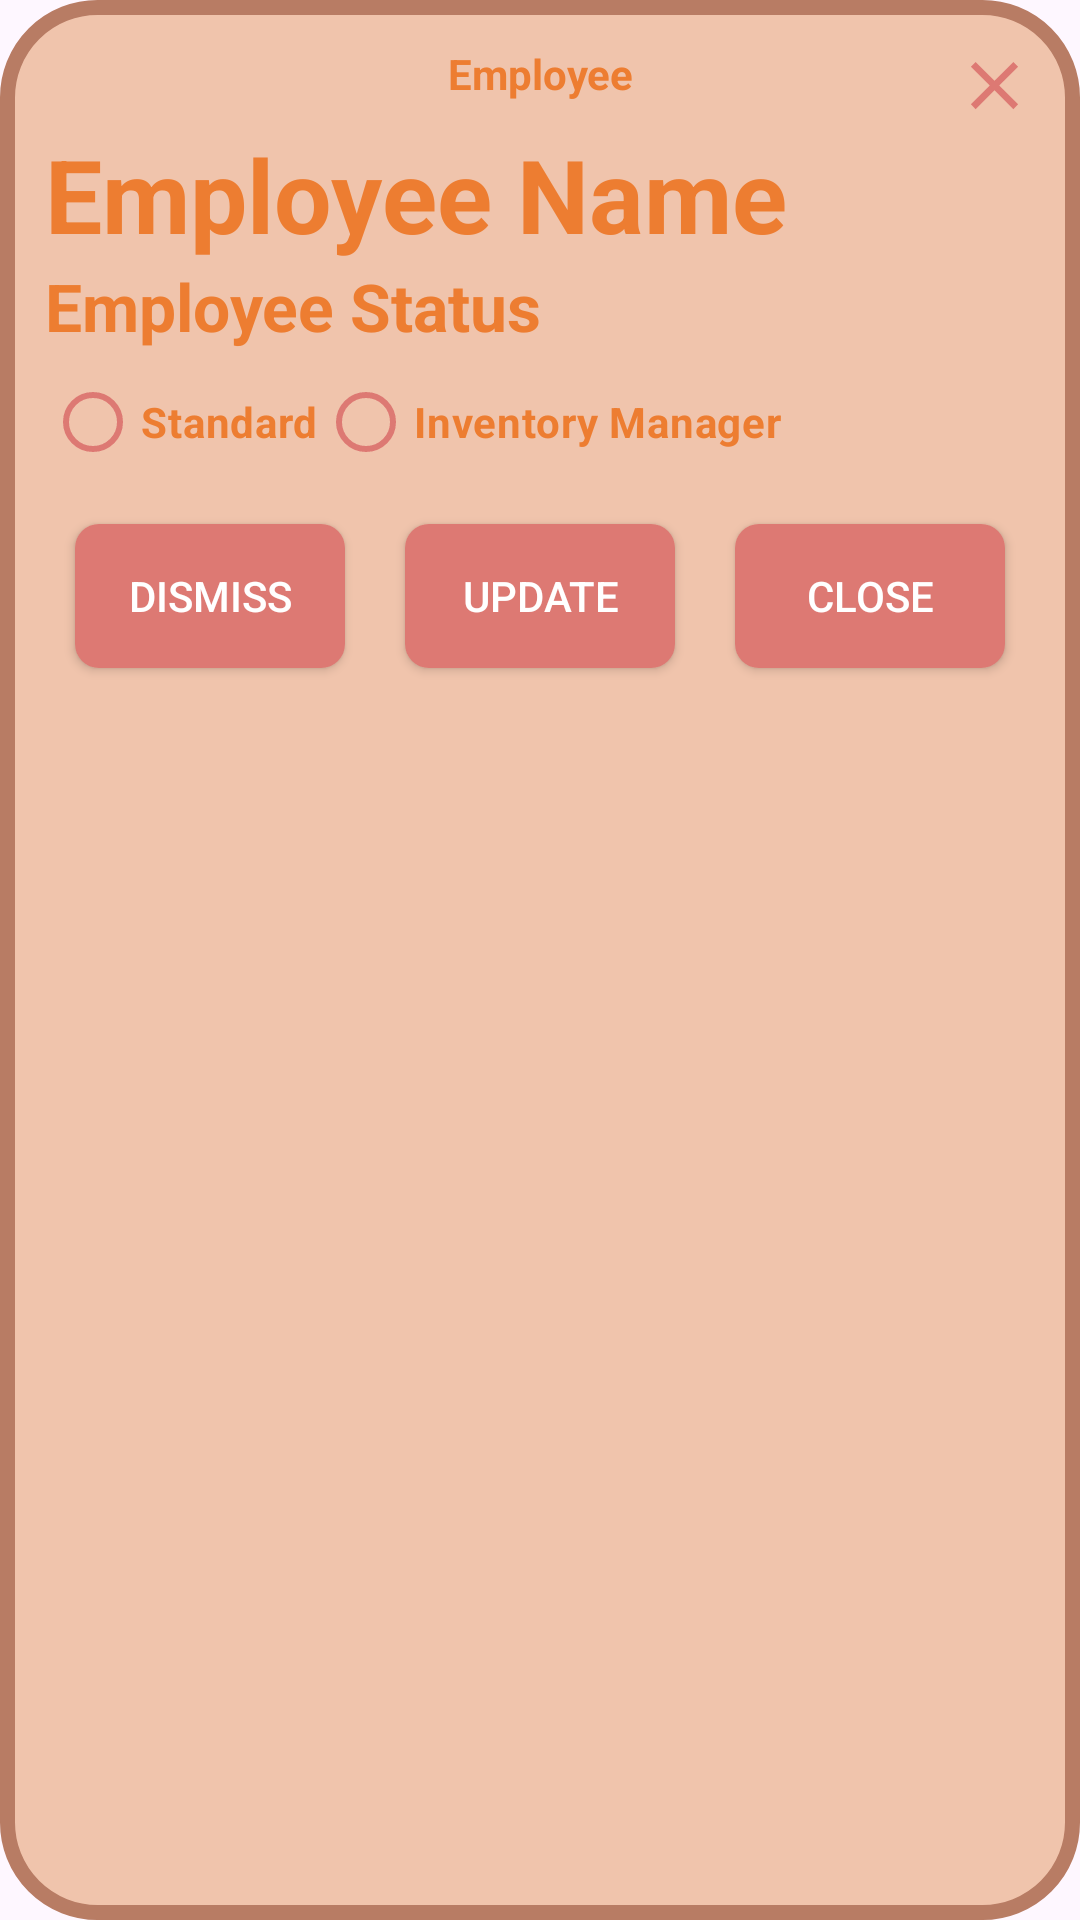

Named icons in this screenshot (1080 × 1920) and their bounding boxes, [x1=x1, y1=y1, x2=x2, y2=y2]:
close: [x1=971, y1=62, x2=1018, y2=109]
